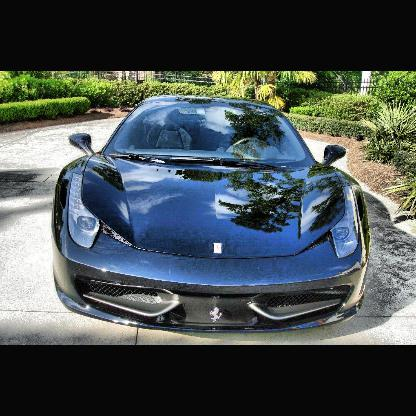Ferrari 458 Italia Coupe 2012: (55, 96, 371, 336)
